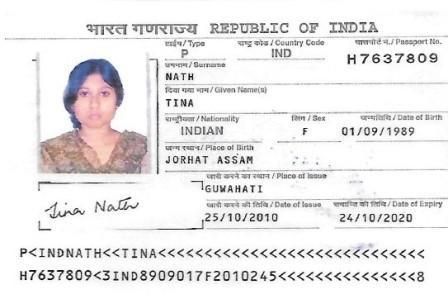DOB: (339, 126, 430, 138)
Surname: (150, 67, 205, 85)
country_code: (266, 46, 295, 60)
date_of_expiry: (335, 211, 422, 226)
date_of_issue: (200, 210, 287, 225)
details: (7, 241, 432, 293)
name: (151, 95, 214, 110)
nationality: (170, 123, 229, 137)
passport_no: (338, 49, 444, 68)
photo: (38, 54, 152, 175)
place_of_birth: (162, 153, 260, 167)
place_of_issue: (202, 181, 268, 196)
sex: (296, 125, 311, 139)
sign: (41, 188, 146, 227)
type: (174, 46, 193, 60)
